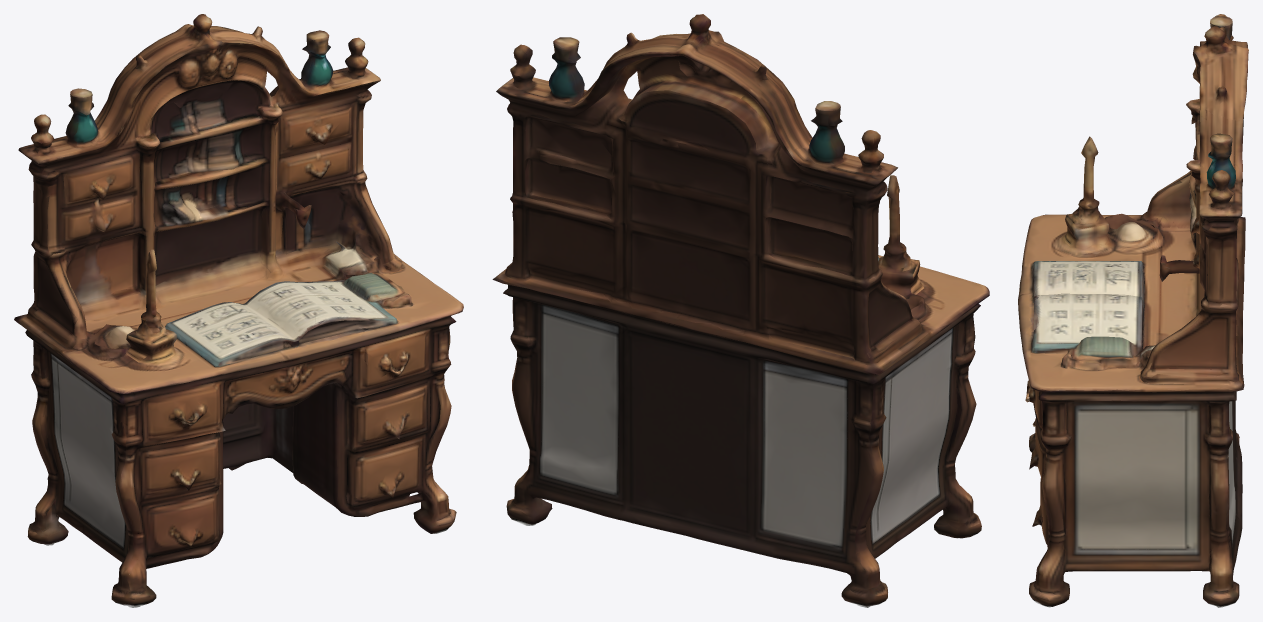
The model's file is library_desk.glb.
3 renders of one model, left to right at view 1: azimuth 30°, elevation 25°; view 2: azimuth 150°, elevation 25°; view 3: azimuth 270°, elevation 25°, orthographic. The views are drawn at different scales.
Visible parts, largest first — view 1: AntiqueDesk; view 2: AntiqueDesk; view 3: AntiqueDesk.
Boxes of the visible parts, left/top/right/bottom form: AntiqueDesk: left=14, top=14, right=463, bottom=607; AntiqueDesk: left=492, top=14, right=989, bottom=607; AntiqueDesk: left=1018, top=14, right=1248, bottom=607.
Size of the model in its own units: 1.2 by 1.6 by 0.6665.
1 material, 1 textured.
